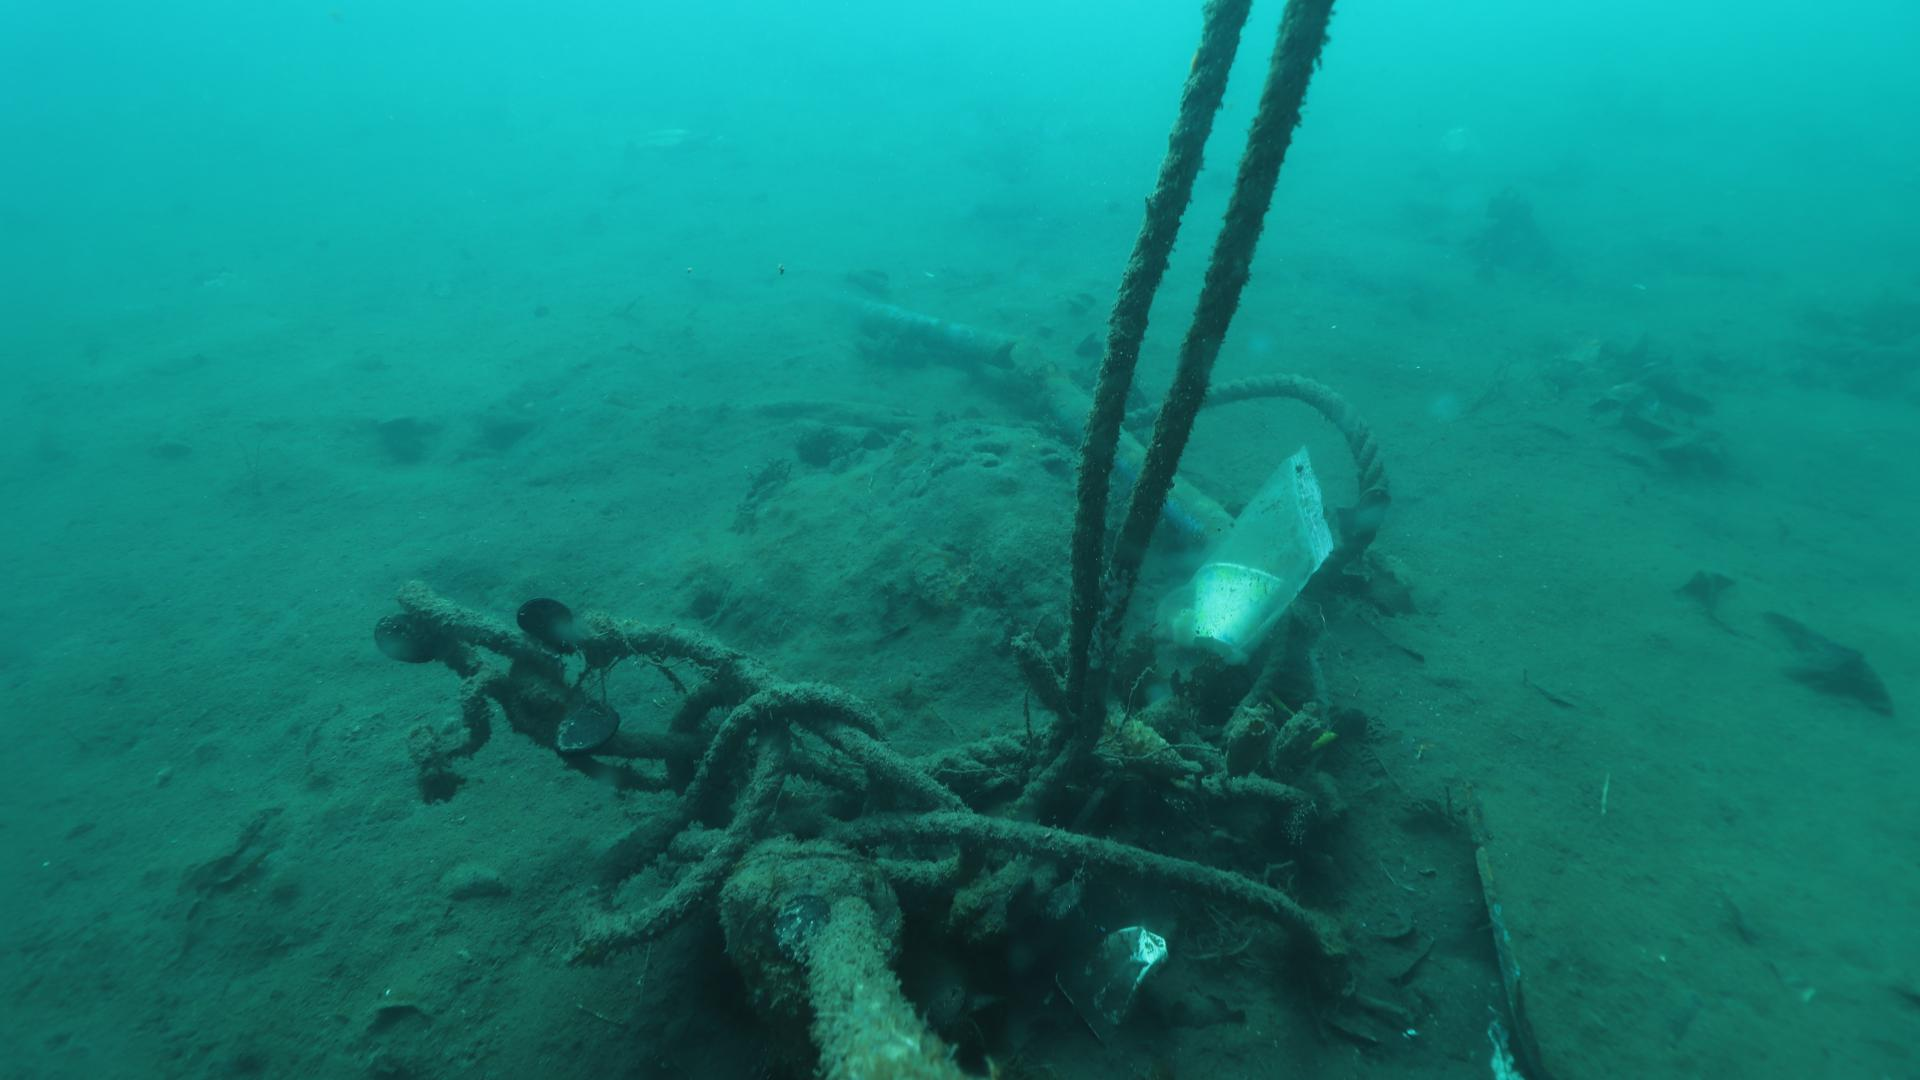bundle of ropes: (502, 0, 1398, 949)
